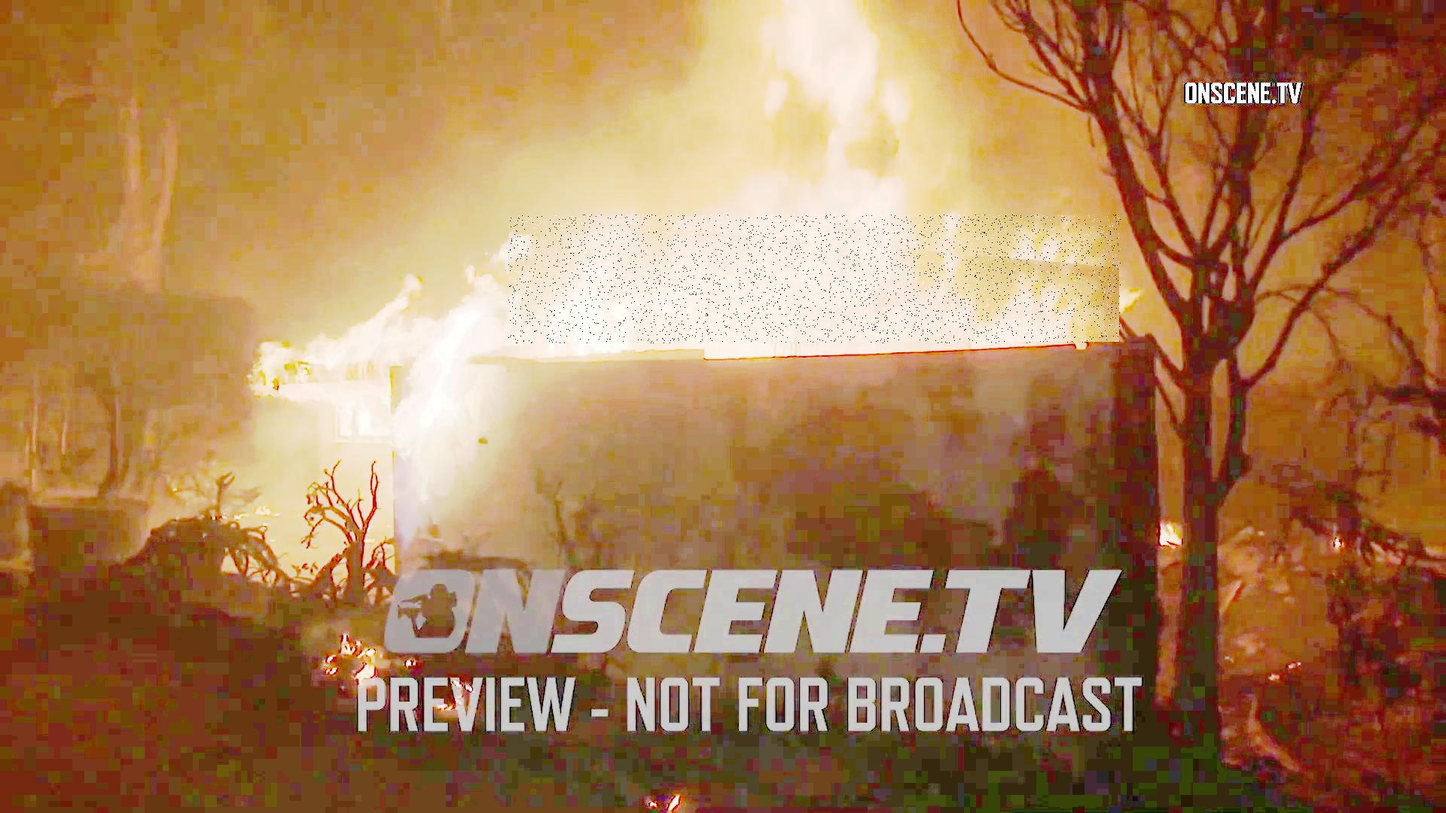fire: (509, 215, 1121, 344)
